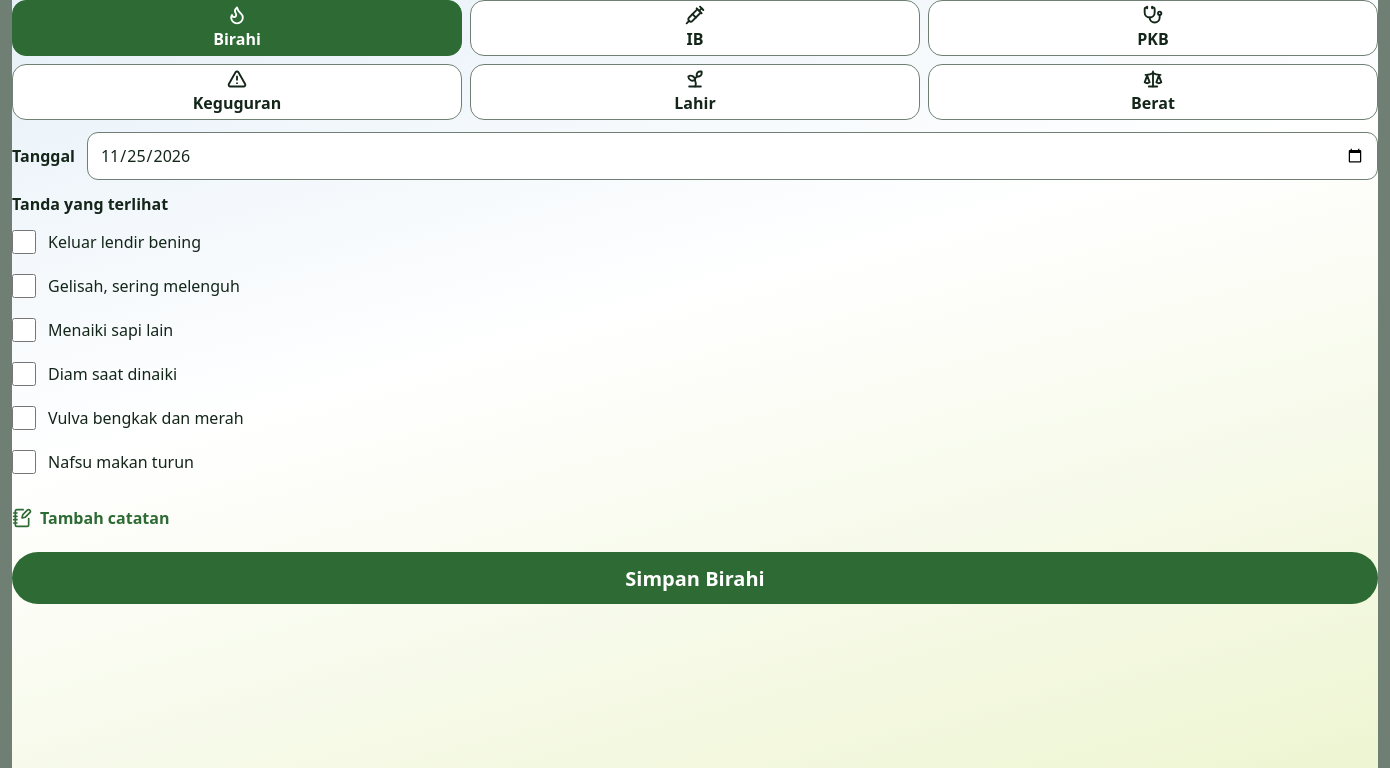
Test case: EventForm › PKB bunting wajib umur janin
This screenshot has width=1390, height=768.
Click the radio button labelled "PKB" at (1153, 28), box [928, 0, 1378, 56]
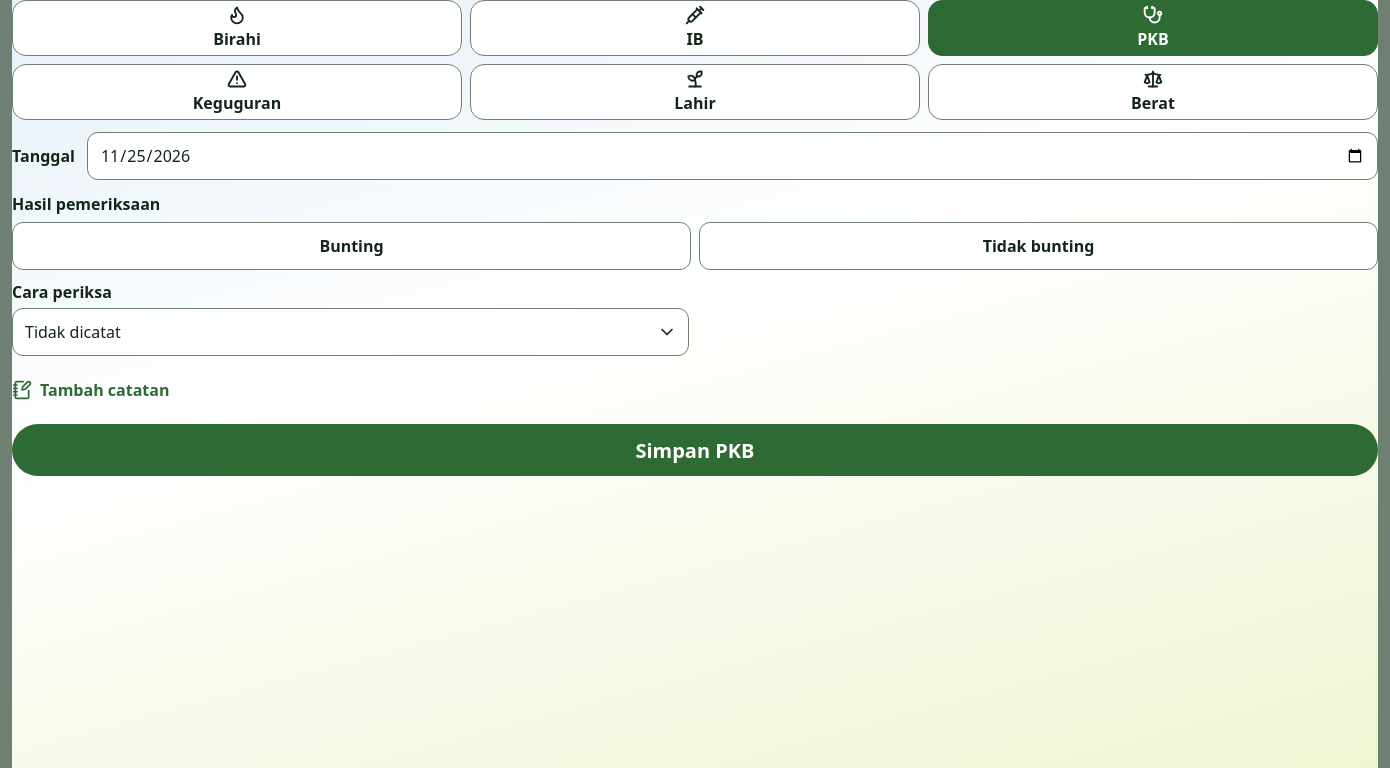
Click the radio button labelled "Bunting" at (352, 246), box [12, 222, 691, 270]
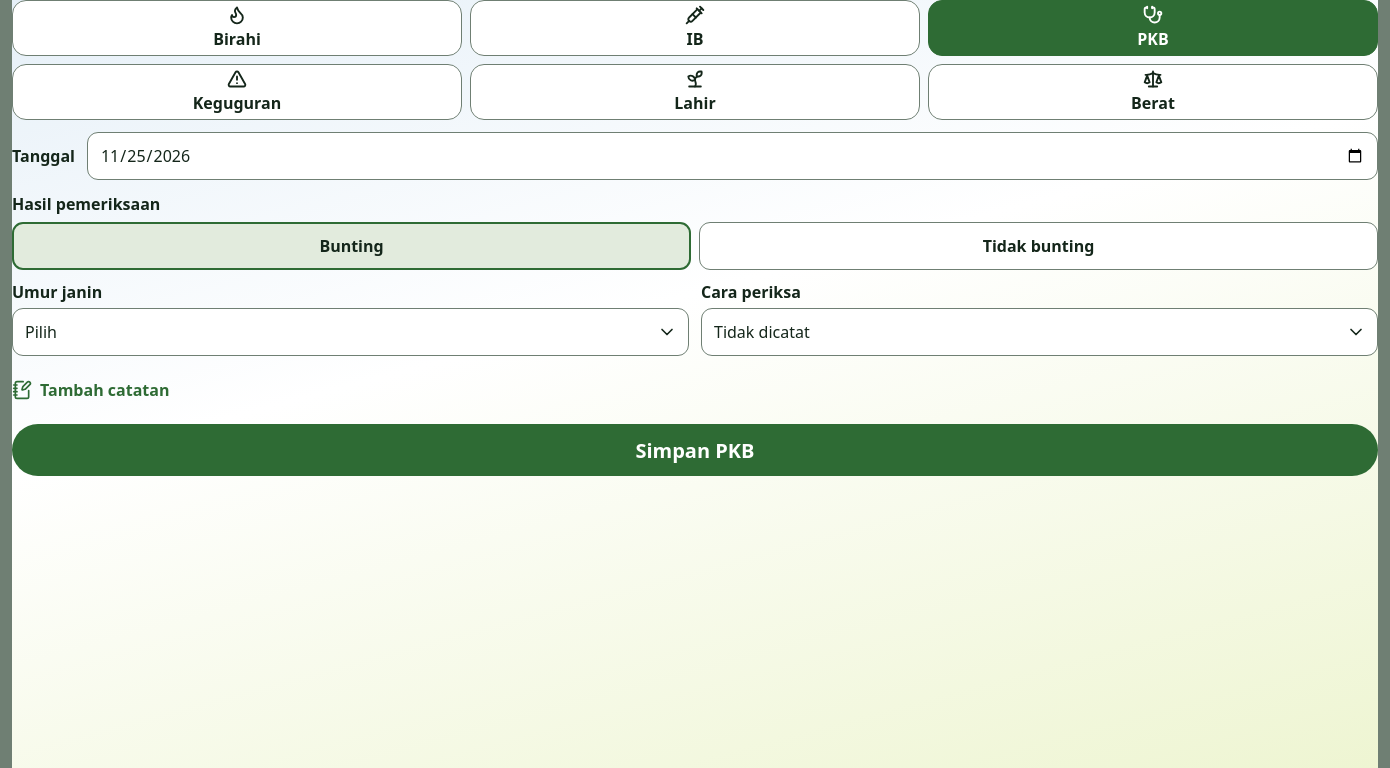
Click the button "Simpan PKB" at (695, 450), box [12, 424, 1378, 476]
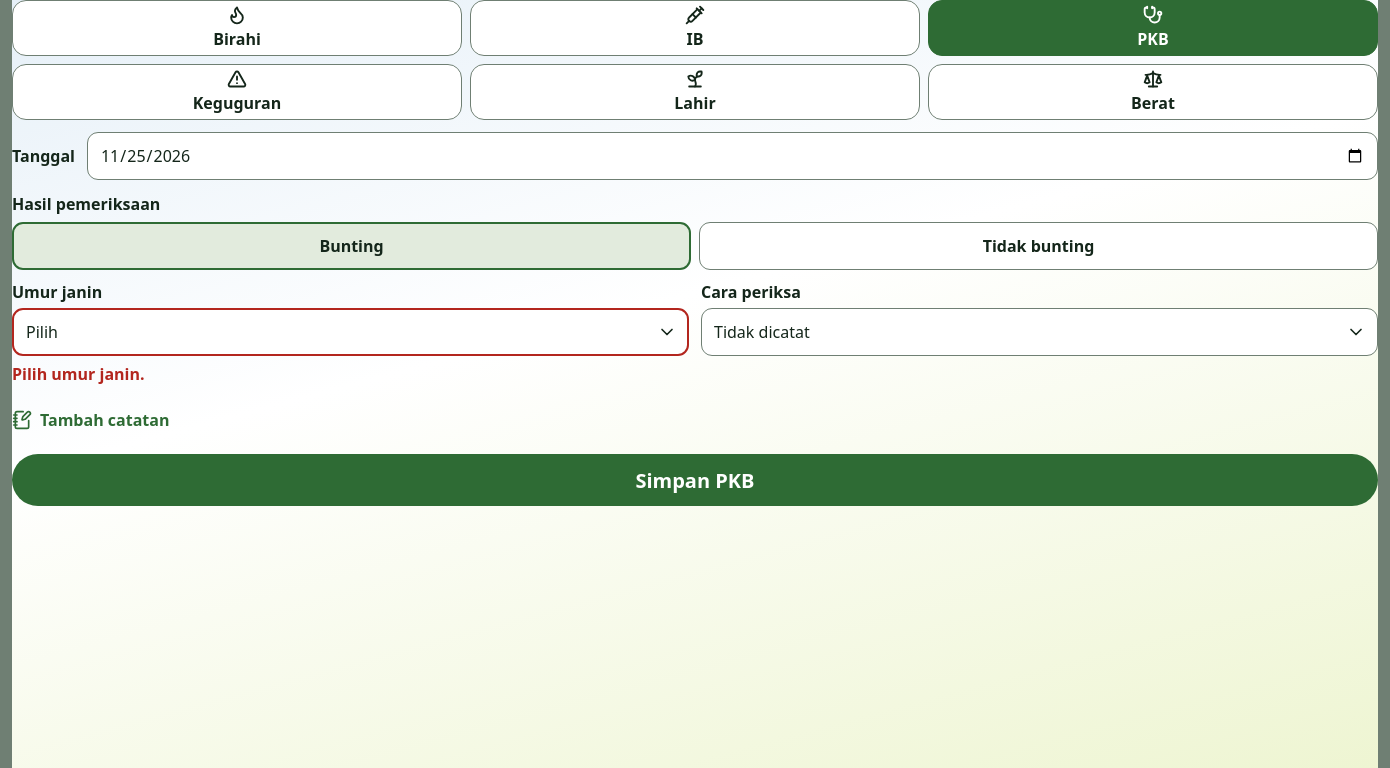
Expected: the text "Pilih umur janin." is shown, [12, 363, 144, 385]
